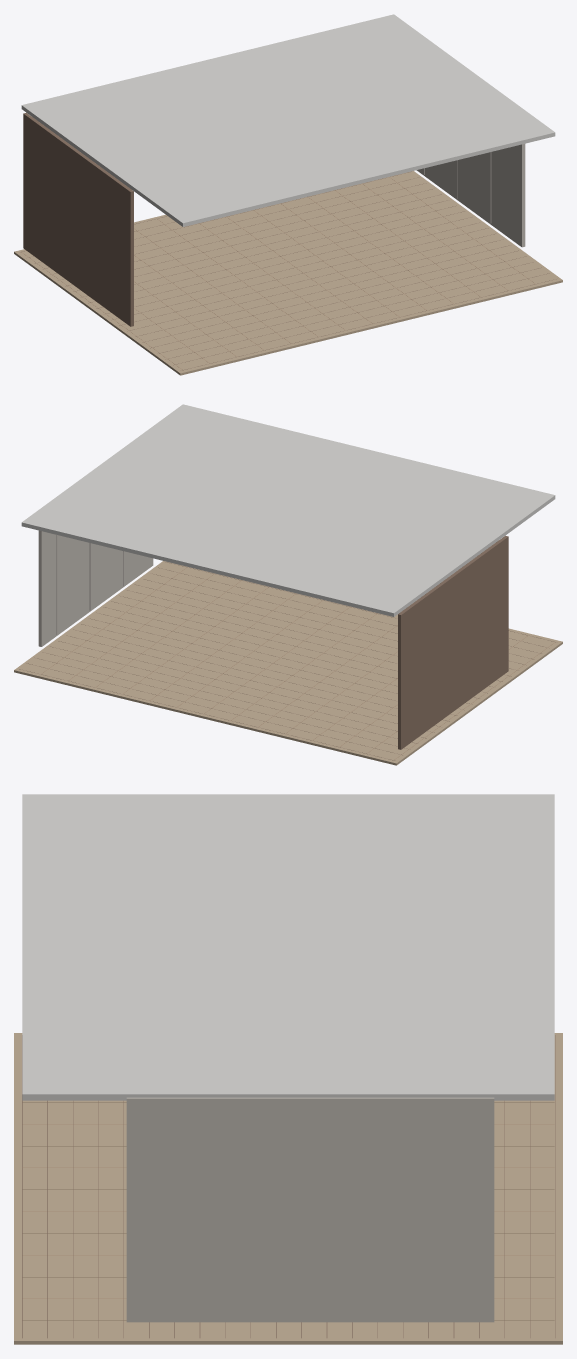
Rendered from 01_surfaces.glb.
3 views of the same model, one above another, from view 1: azimuth 30°, elevation 25°; view 2: azimuth 150°, elevation 25°; view 3: azimuth 270°, elevation 25° (orthographic). The views are drawn at different scales.
Parts seen in each view (by area): view 1: surface_cove_ceiling, surface_oak_parquet, surface_walnut_backing, surface_right_travertine; view 2: surface_cove_ceiling, surface_oak_parquet, surface_walnut_backing, surface_right_travertine; view 3: surface_cove_ceiling, surface_right_travertine, surface_oak_parquet.
Boxes of the visible parts, x1=… form: surface_cove_ceiling: x1=21, y1=14, x2=555, y2=226; surface_oak_parquet: x1=14, y1=171, x2=562, y2=375; surface_walnut_backing: x1=23, y1=112, x2=133, y2=326; surface_right_travertine: x1=416, y1=144, x2=525, y2=247; surface_cove_ceiling: x1=21, y1=404, x2=555, y2=616; surface_oak_parquet: x1=14, y1=561, x2=562, y2=765; surface_walnut_backing: x1=398, y1=535, x2=508, y2=749; surface_right_travertine: x1=38, y1=530, x2=153, y2=646; surface_cove_ceiling: x1=22, y1=794, x2=554, y2=1100; surface_right_travertine: x1=126, y1=1097, x2=494, y2=1322; surface_oak_parquet: x1=14, y1=1033, x2=562, y2=1344.
Size of the model in its own units: 8.32 by 3.1 by 6.27.
